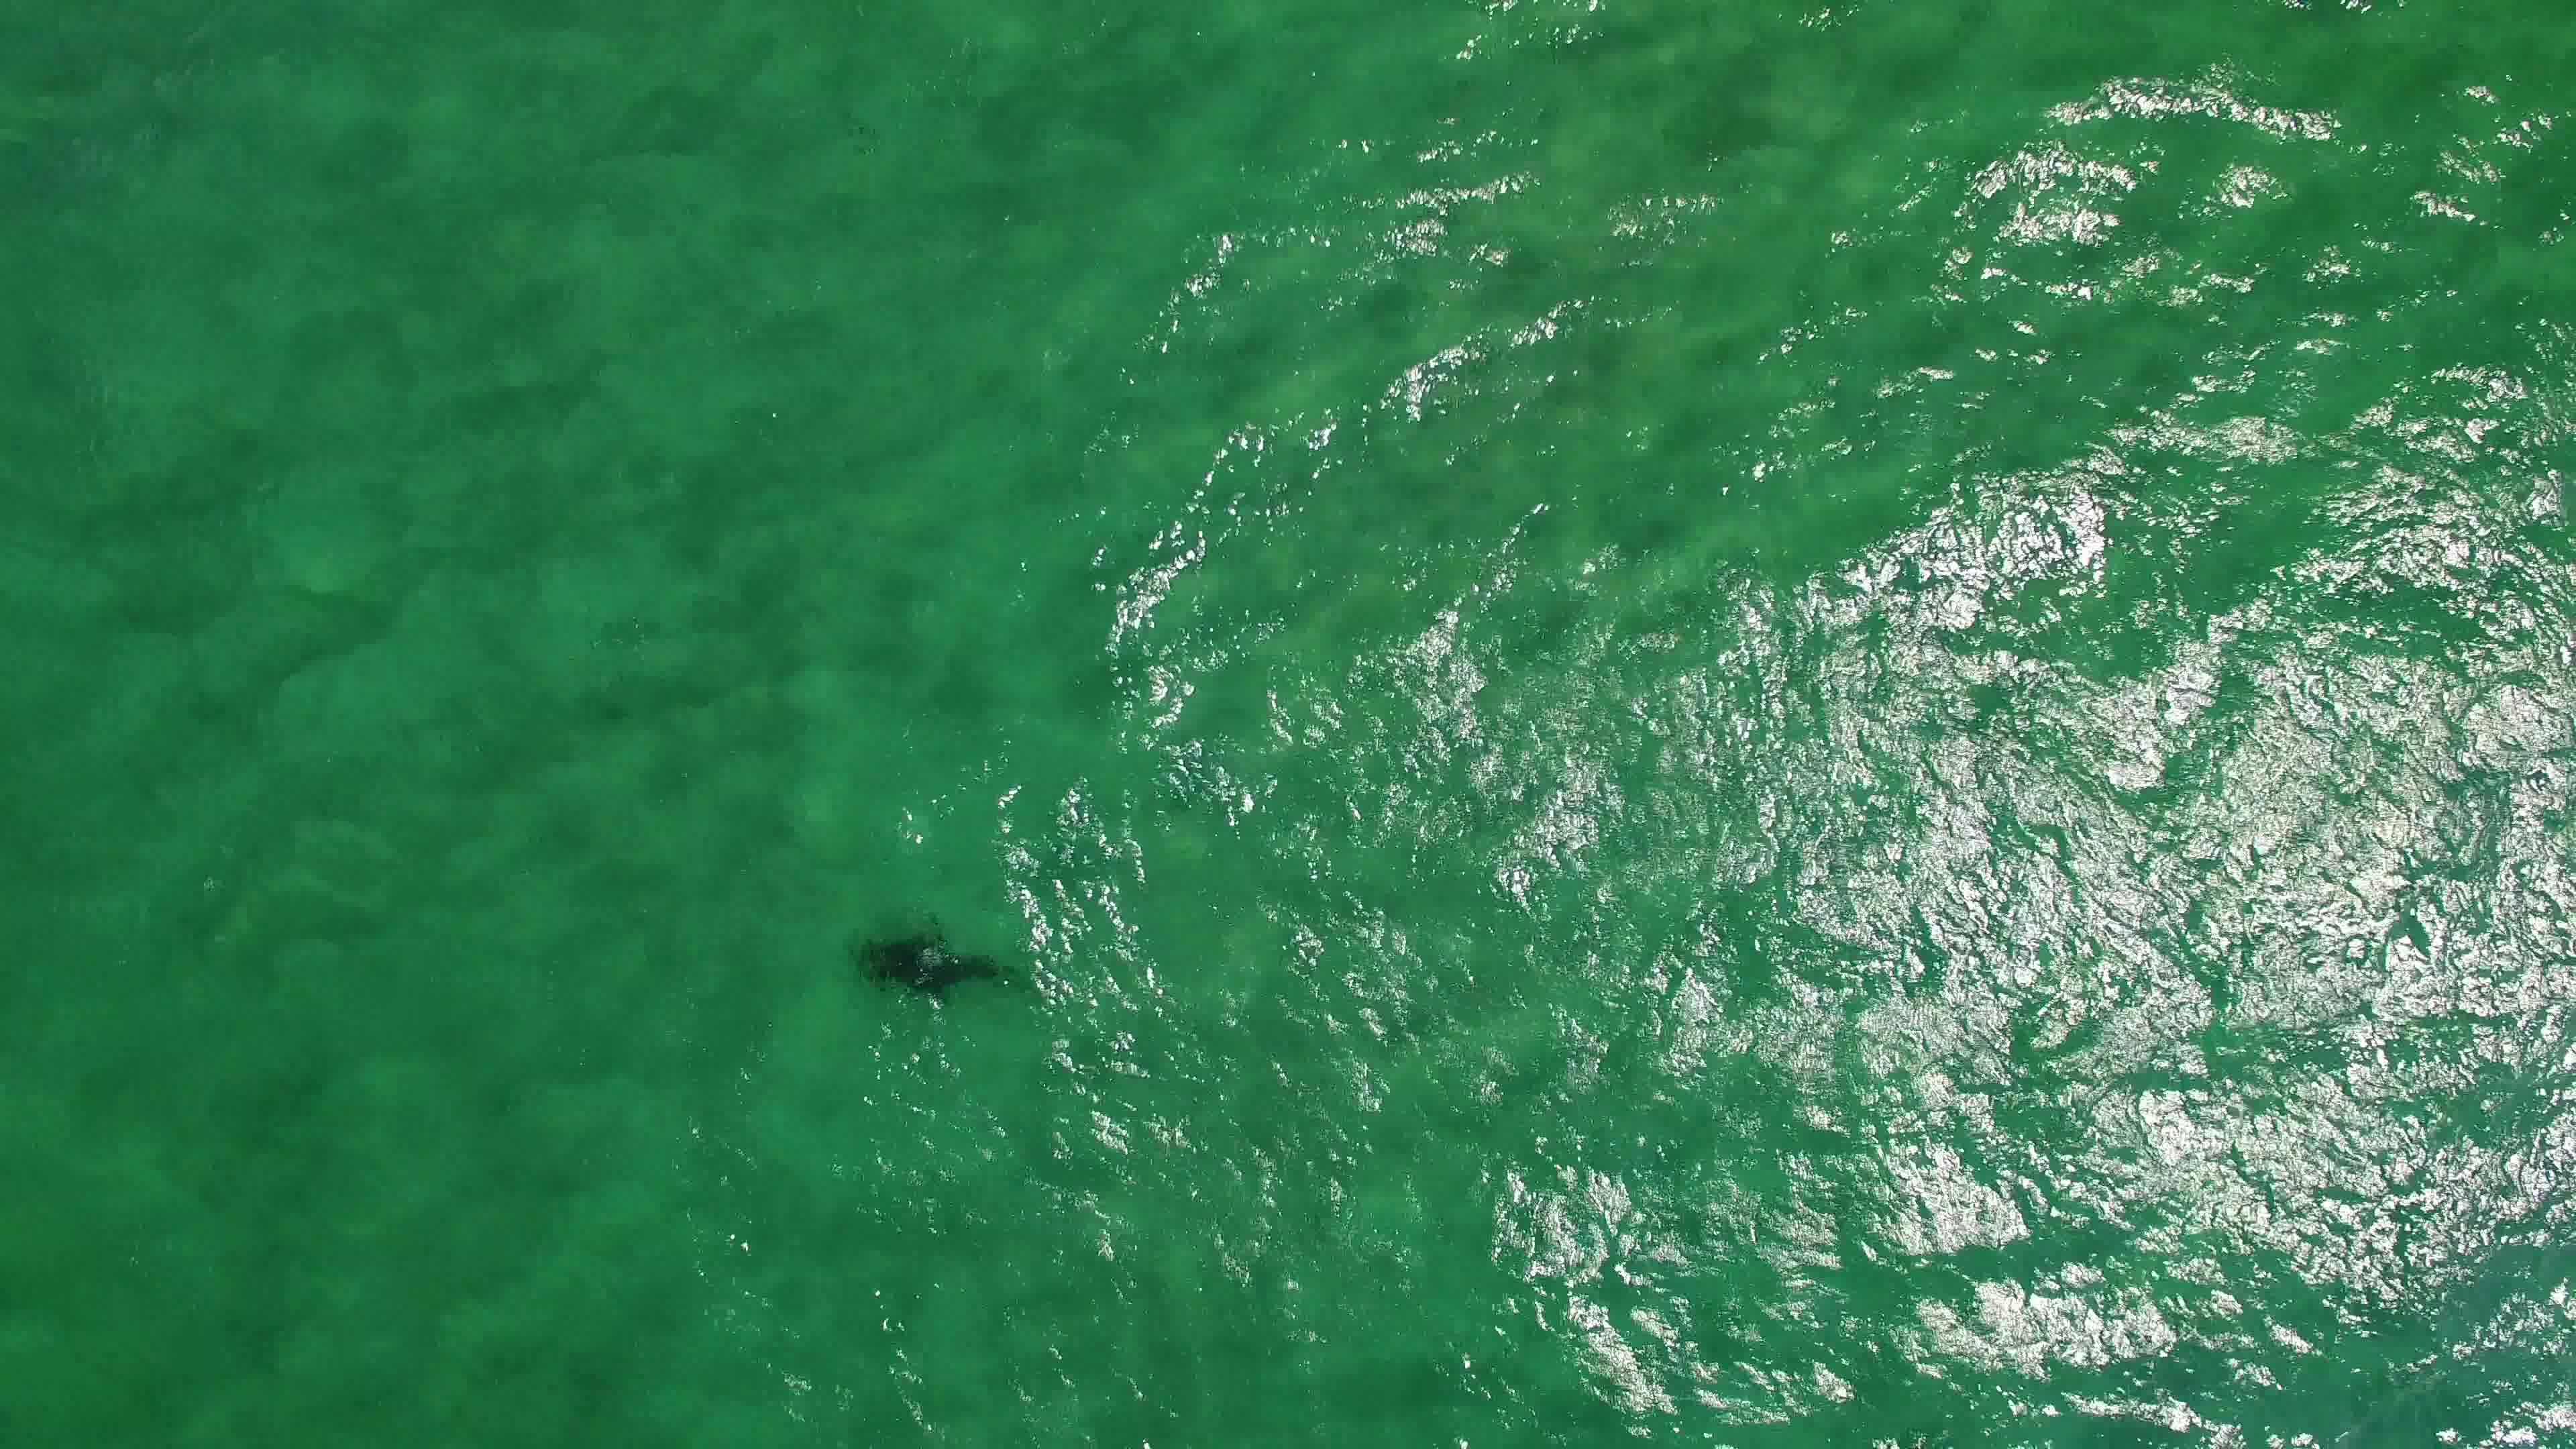shark: (865, 916, 1026, 1010)
